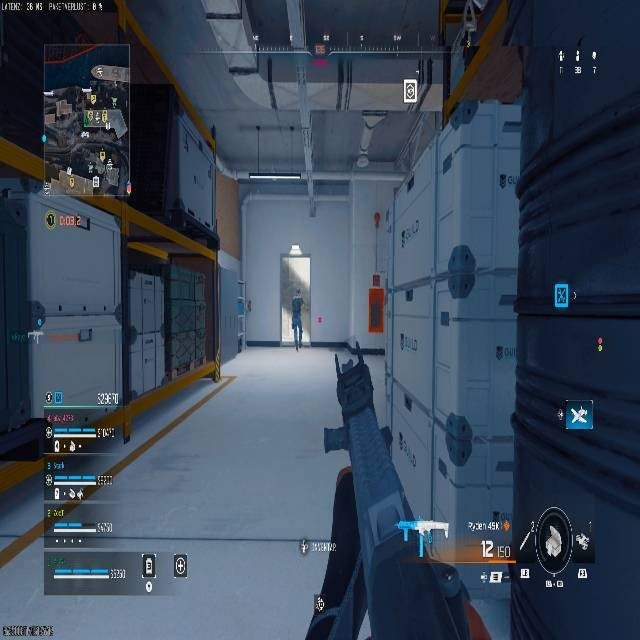player: (283, 260, 308, 346), (289, 293, 306, 349)
